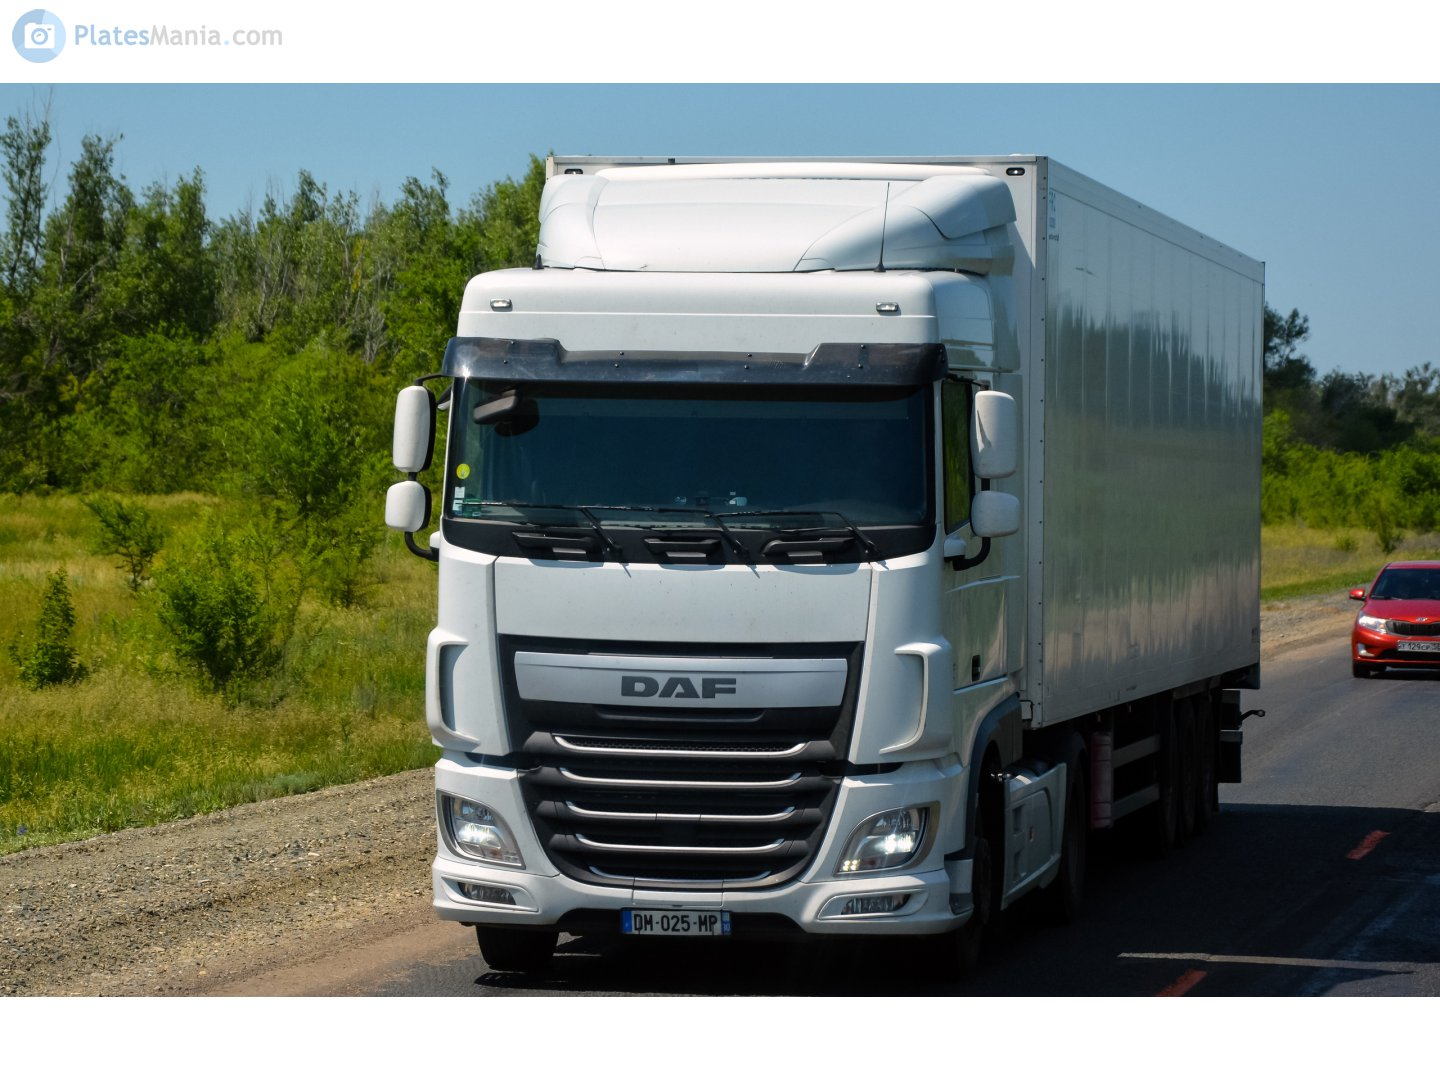licence plate: (619, 906, 734, 940)
